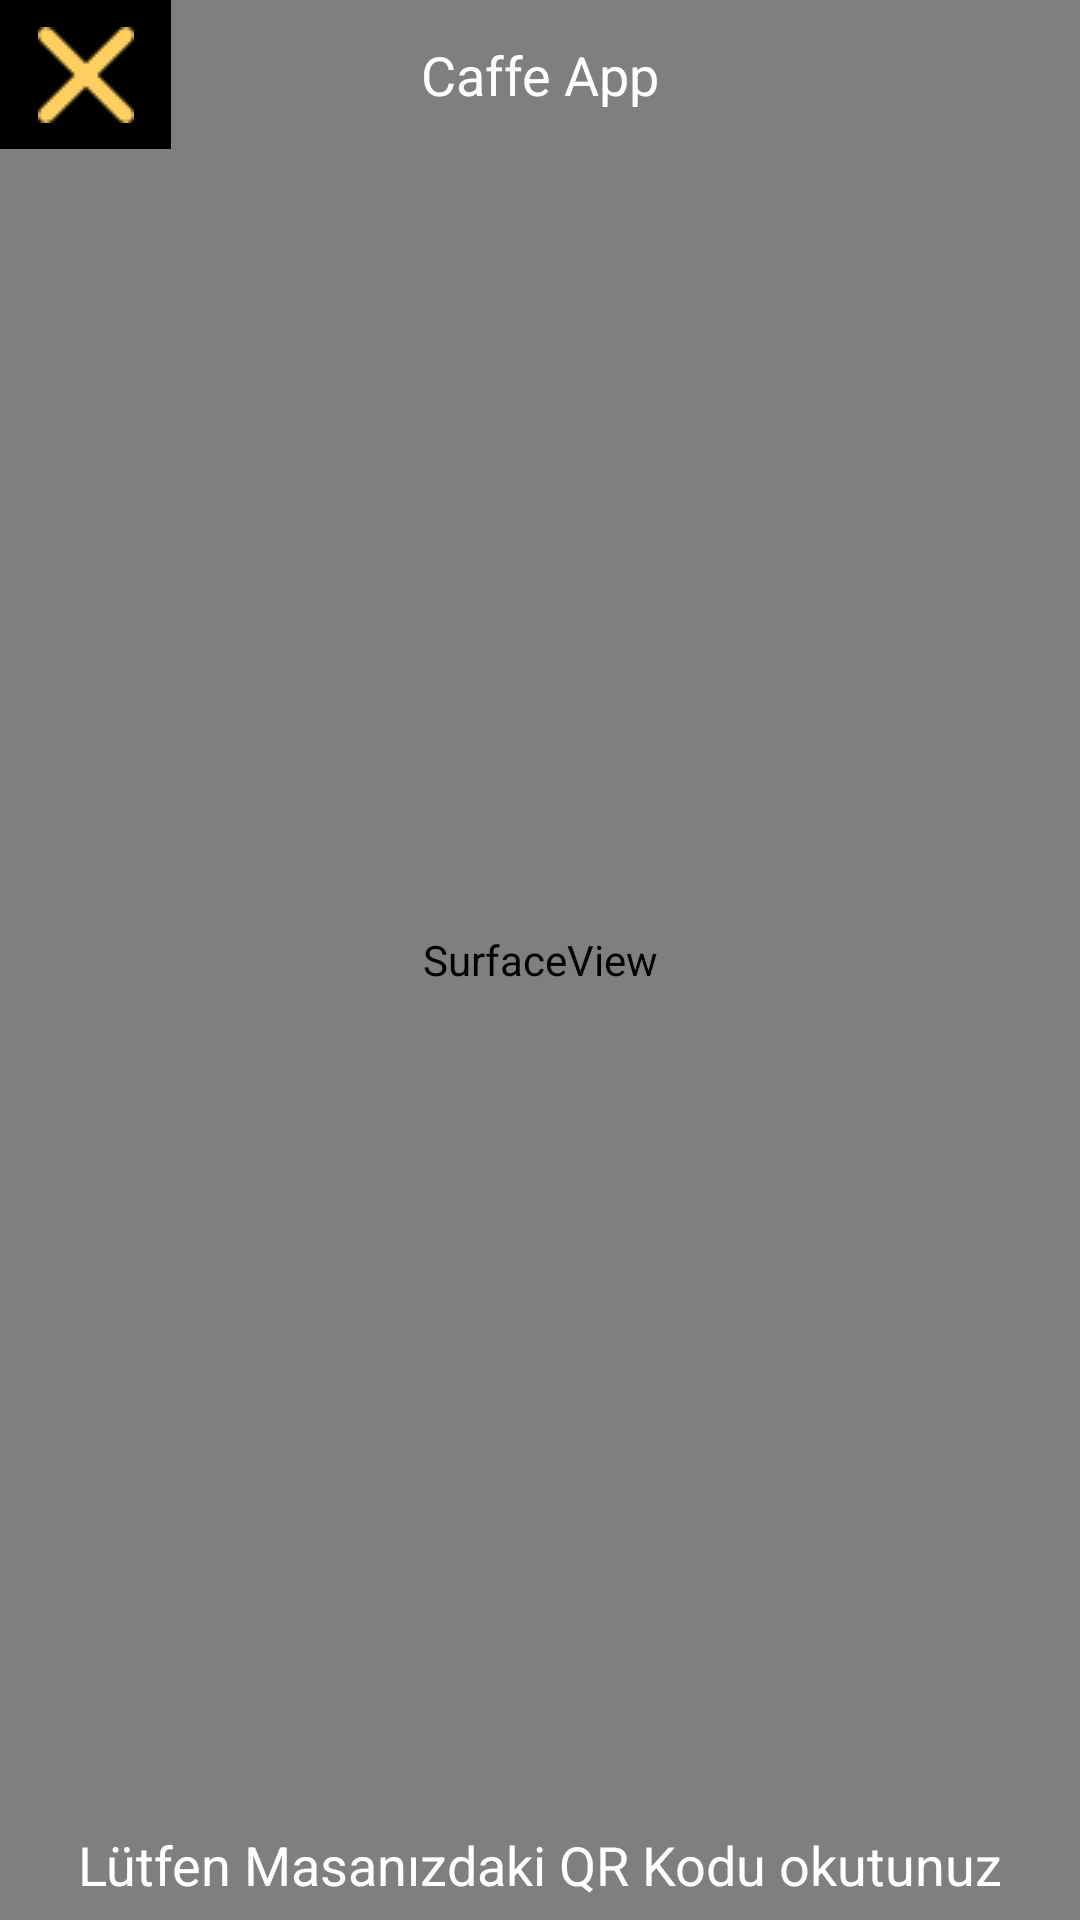

Icon click points for this 1080×1920 phone screenshot, format point (x, y):
cancelm: point (85, 74)
